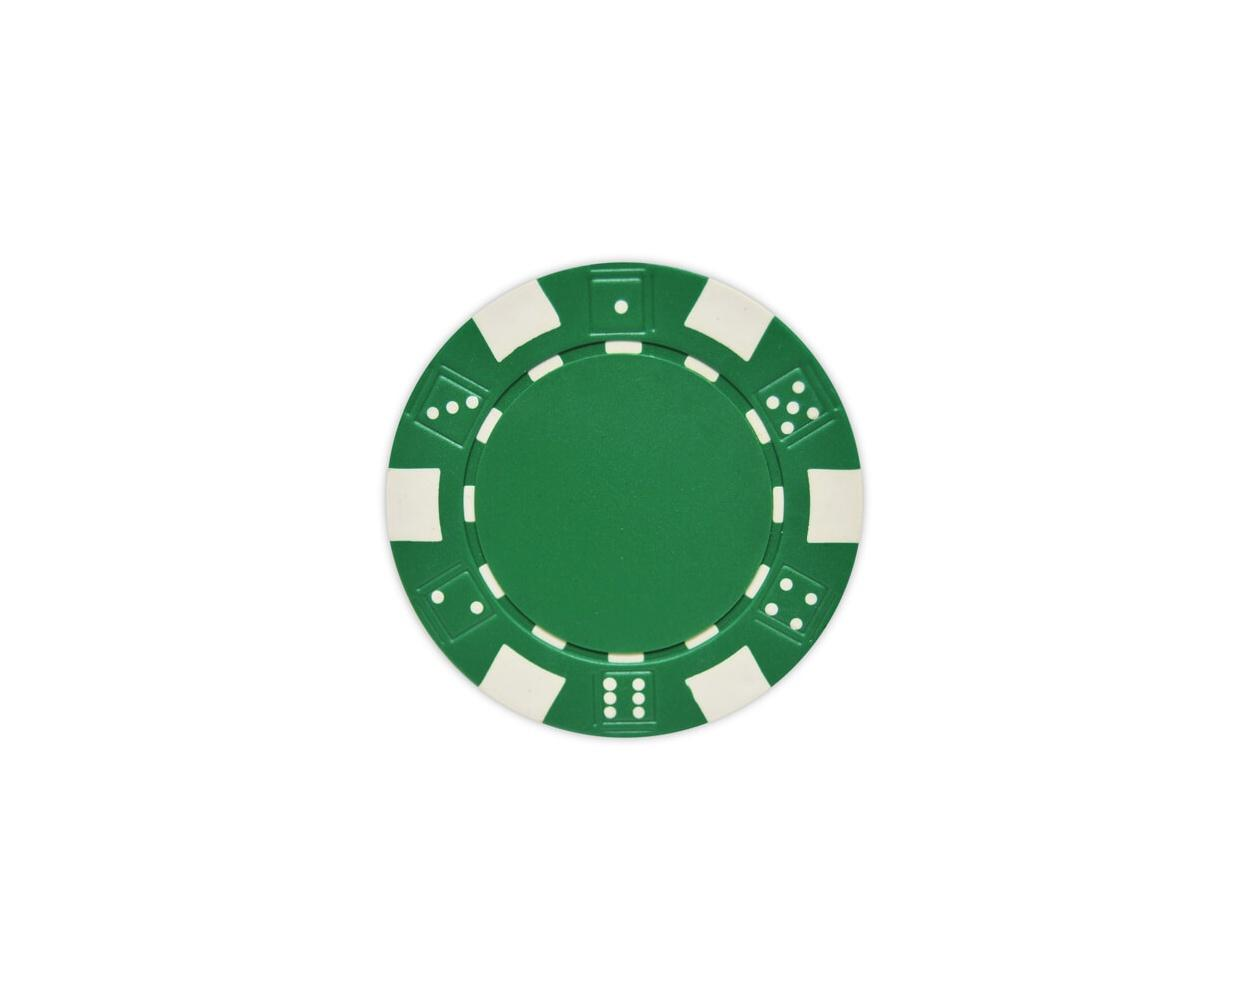chip-green: (386, 263, 862, 738)
